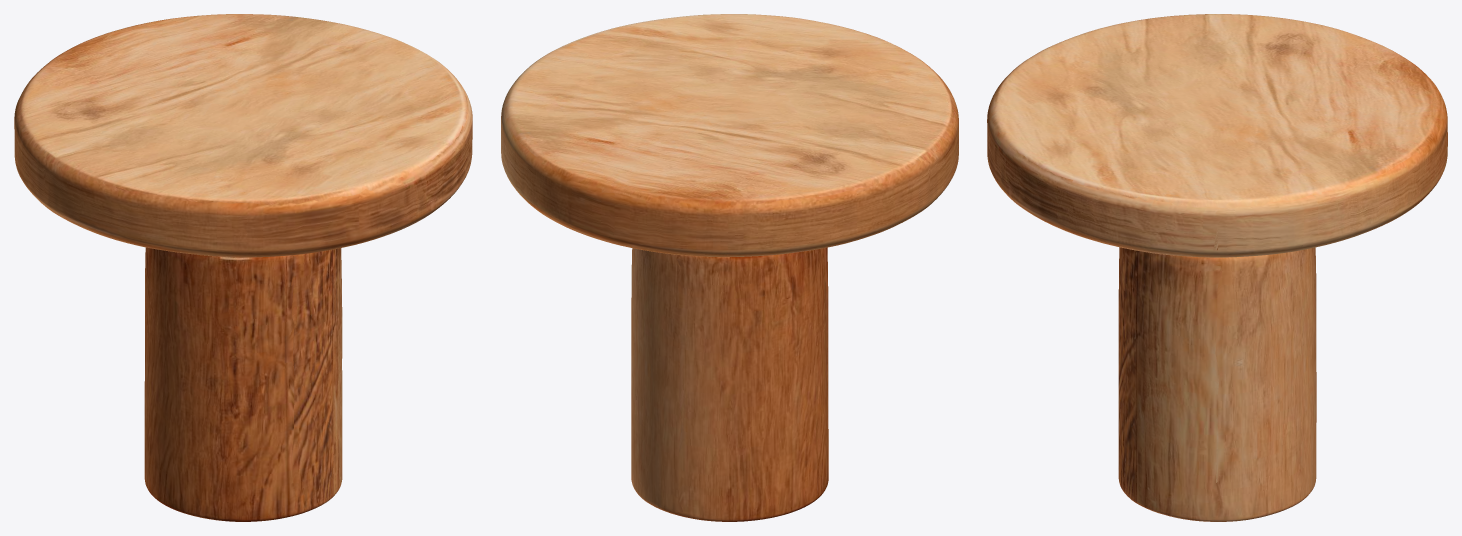
The model's file is wheel.glb.
3 renders of one model, left to right at view 1: azimuth 30°, elevation 25°; view 2: azimuth 150°, elevation 25°; view 3: azimuth 270°, elevation 25°, orthographic.
Parts seen in each view (by area): view 1: tg_wheel; view 2: tg_wheel; view 3: tg_wheel.
Part boxes in pixels (x1,y1,x2,y2): tg_wheel: [14, 14, 472, 521]; tg_wheel: [501, 14, 958, 521]; tg_wheel: [987, 14, 1447, 521].
Bounding box in the file's own units: 0.9994 × 0.8983 × 1.
1 material, 1 textured.
